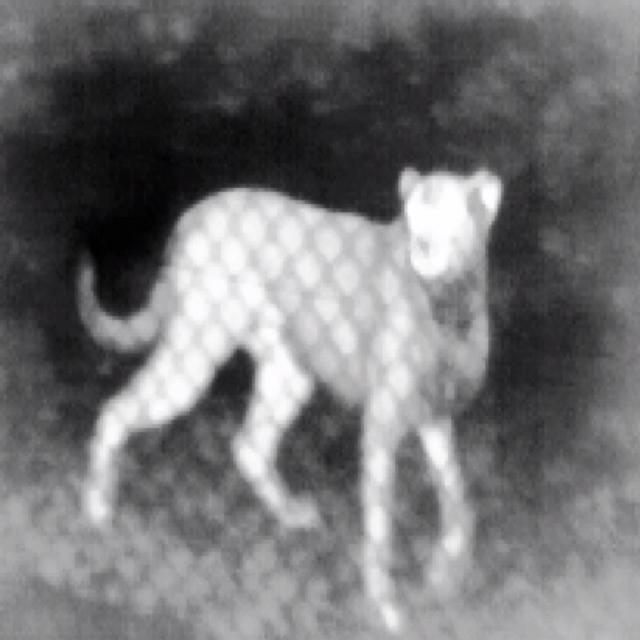cheetah: (78, 171, 502, 632)
